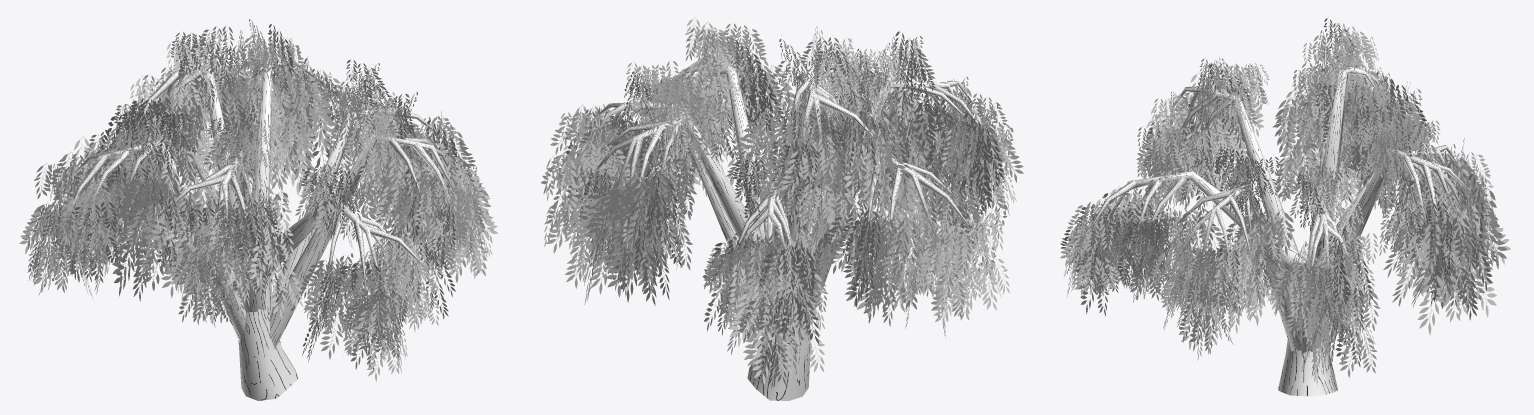
Rendered from Willow_River_v01.fbx.
3 views of the same model, side by side, from view 1: azimuth 30°, elevation 25°; view 2: azimuth 150°, elevation 25°; view 3: azimuth 270°, elevation 25° (orthographic). The views are drawn at different scales.
Parts seen in each view (by area): view 1: Foliage, Bark; view 2: Foliage, Bark; view 3: Foliage, Bark.
Part boxes in pixels (bbox=[...]): Foliage: bbox=[19, 19, 497, 381]; Bark: bbox=[60, 53, 457, 400]; Foliage: bbox=[541, 17, 1023, 388]; Bark: bbox=[585, 55, 987, 400]; Foliage: bbox=[1060, 17, 1510, 384]; Bark: bbox=[1085, 65, 1477, 396].
Size of the model in its own units: 14.3 by 11.04 by 13.41.
